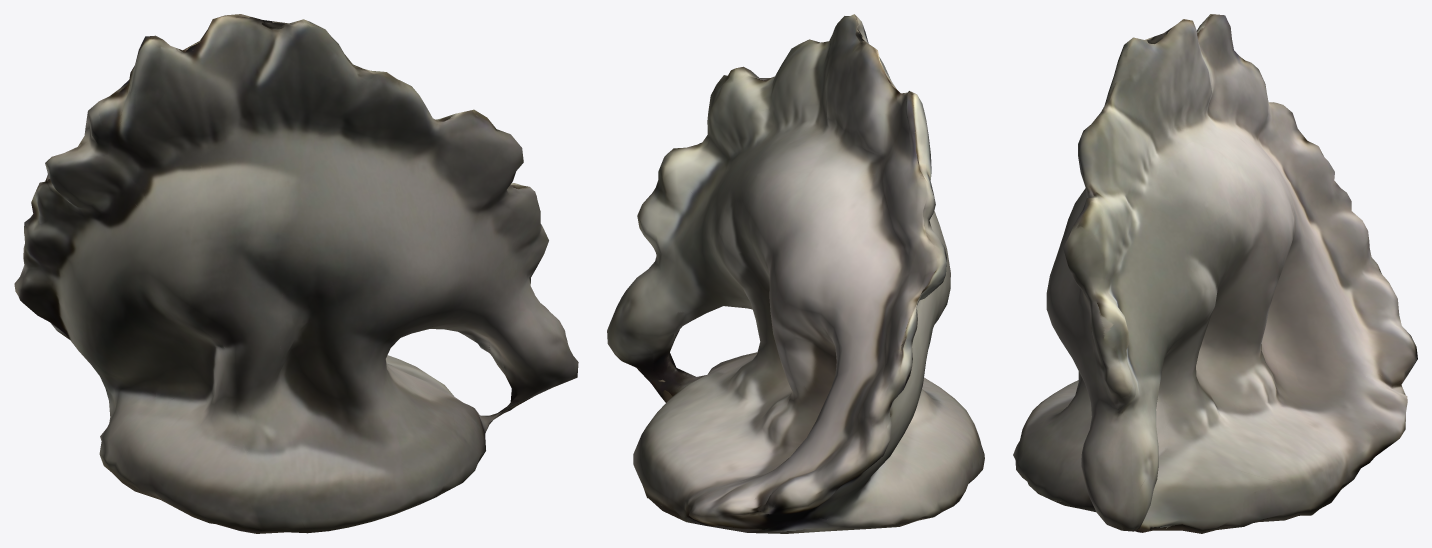
File: dinoring-reconstructed.glb
3 views of the same model, side by side, from view 1: azimuth 30°, elevation 25°; view 2: azimuth 150°, elevation 25°; view 3: azimuth 270°, elevation 25° (orthographic). The views are drawn at different scales.
Parts seen in each view (by area): view 1: ObjectCapture; view 2: ObjectCapture; view 3: ObjectCapture.
Boxes of the visible parts, bbox=[...] form: ObjectCapture: bbox=[14, 14, 578, 533]; ObjectCapture: bbox=[607, 14, 984, 533]; ObjectCapture: bbox=[1013, 14, 1417, 533].
Bounding box in the file's own units: 0.2314 × 0.2429 × 0.2037.
1 material, 1 textured.
